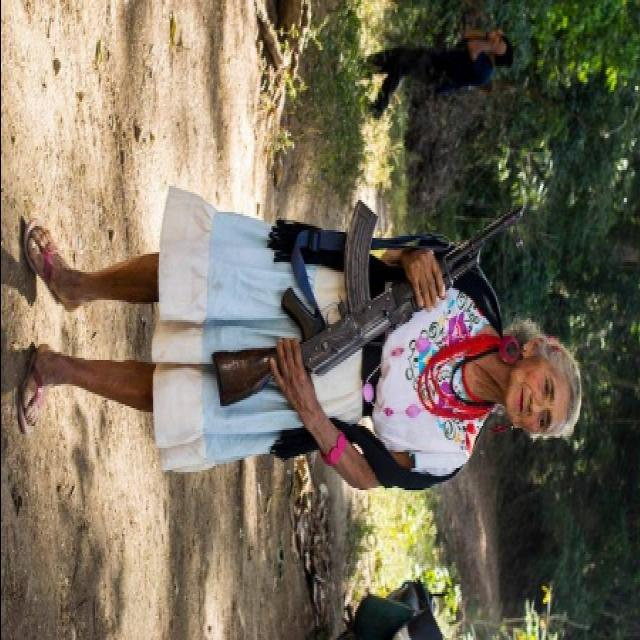rifle: (210, 193, 534, 413)
